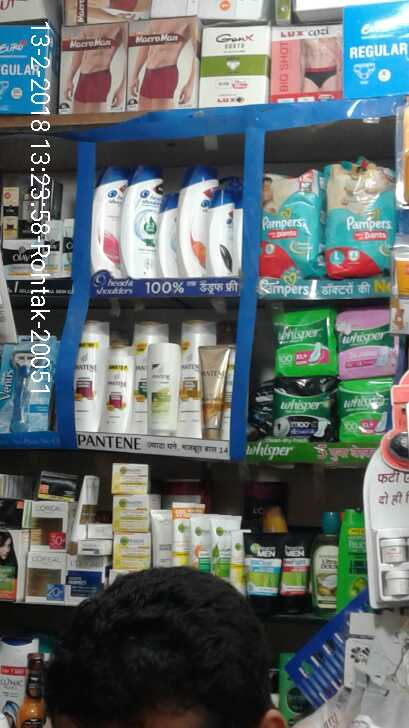venus: (1, 336, 57, 429)
